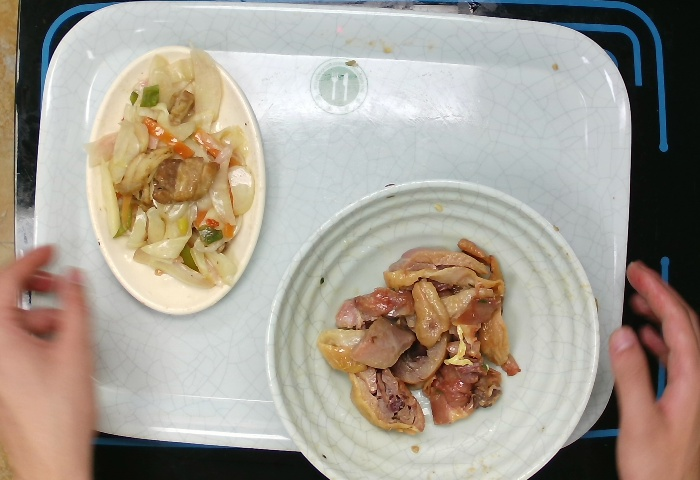JYsf-Da_Tang_Wan: (263, 174, 603, 480)
JYsf-Tuo_Yuan_Wan: (84, 44, 265, 317)
